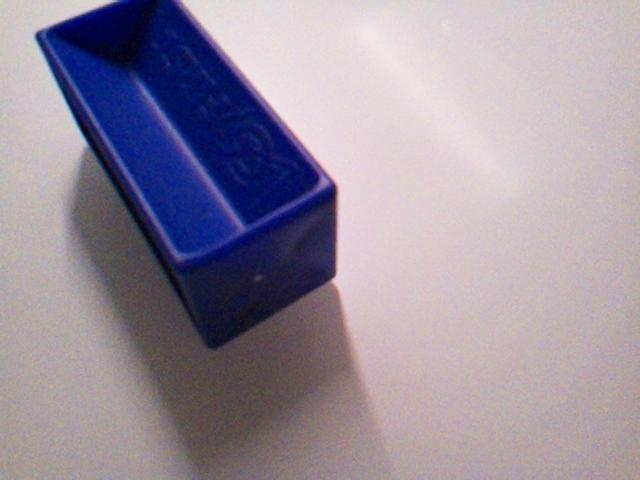blue: (34, 1, 340, 350)
